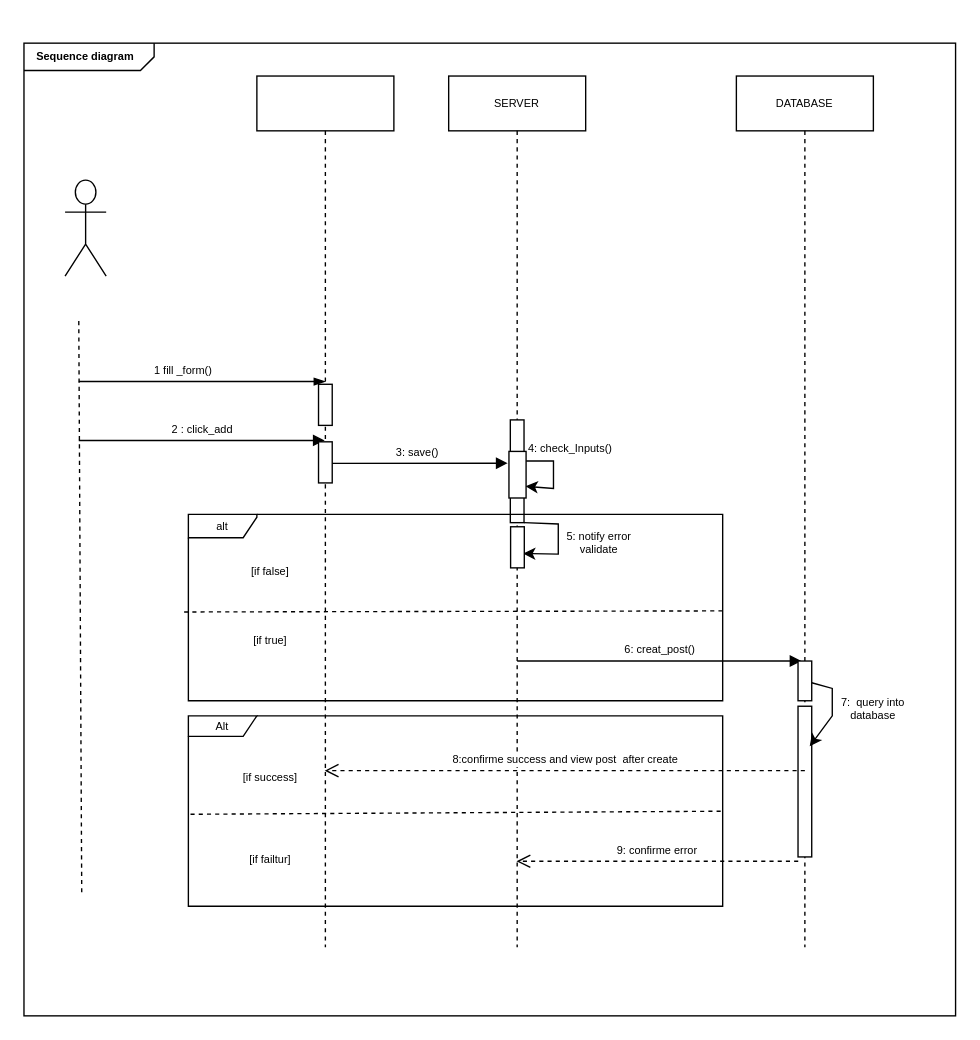
Image size: 980x1040. Some labels were removed from this diagram. Each missing label, with the centre of its shape:
Actor: the point at 85,227
UI: the point at 325,511
